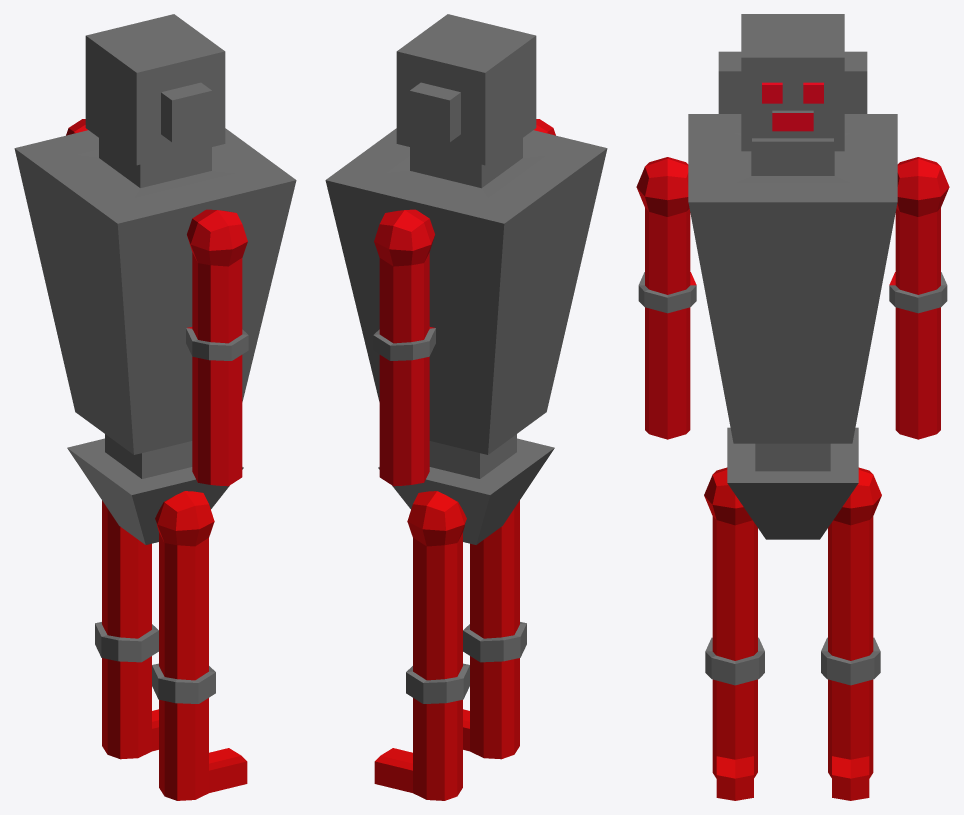
The model's file is robot  .fbx.
3 renders of one model, left to right at view 1: azimuth 30°, elevation 25°; view 2: azimuth 150°, elevation 25°; view 3: azimuth 270°, elevation 25°, orthographic.
Visible parts, largest first — view 1: Cube, Cube.001, Cube.002; view 2: Cube, Cube.001, Cube.002; view 3: Cube, Cube.001, Cube.002.
Part boxes in pixels (bbox=[...]): Cube: bbox=[14, 14, 296, 544]; Cube.001: bbox=[95, 491, 247, 800]; Cube.002: bbox=[66, 119, 248, 486]; Cube: bbox=[325, 14, 607, 544]; Cube.001: bbox=[374, 491, 526, 800]; Cube.002: bbox=[373, 119, 555, 486]; Cube: bbox=[688, 14, 897, 539]; Cube.001: bbox=[704, 467, 881, 800]; Cube.002: bbox=[636, 157, 949, 439].
Bounding box in the file's own units: 282 × 1098 × 422.
